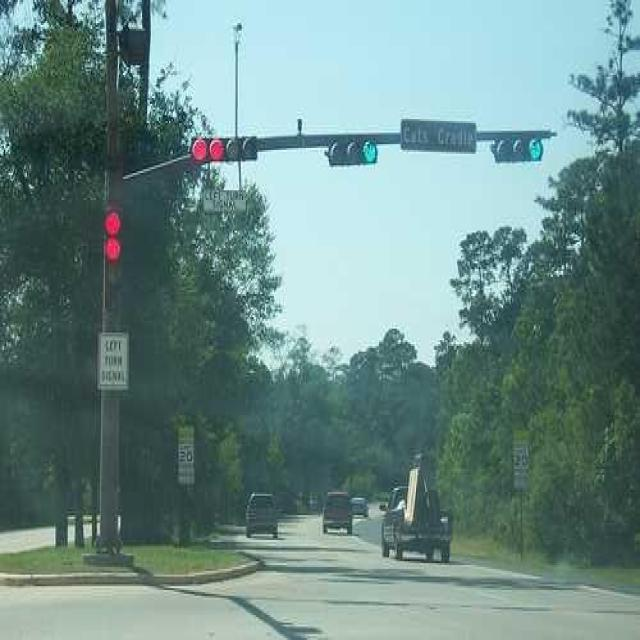Traffic Light -Green-: (488, 134, 549, 166), (321, 140, 383, 171)
